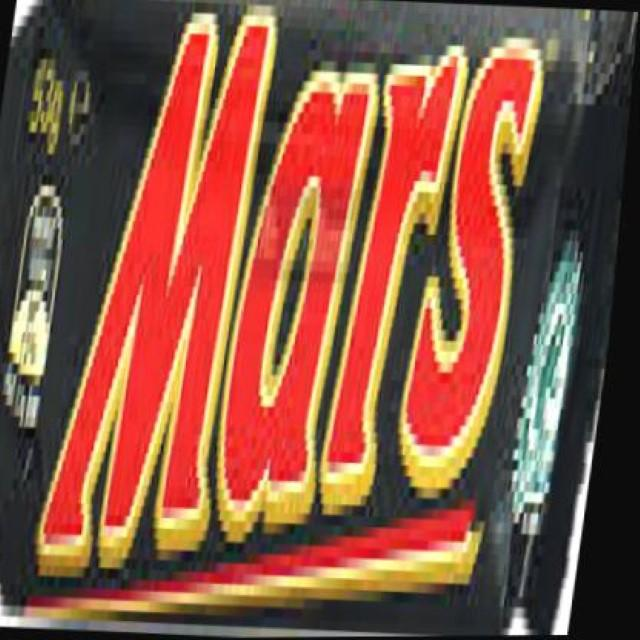mars_chocolate: (40, 4, 607, 638)
